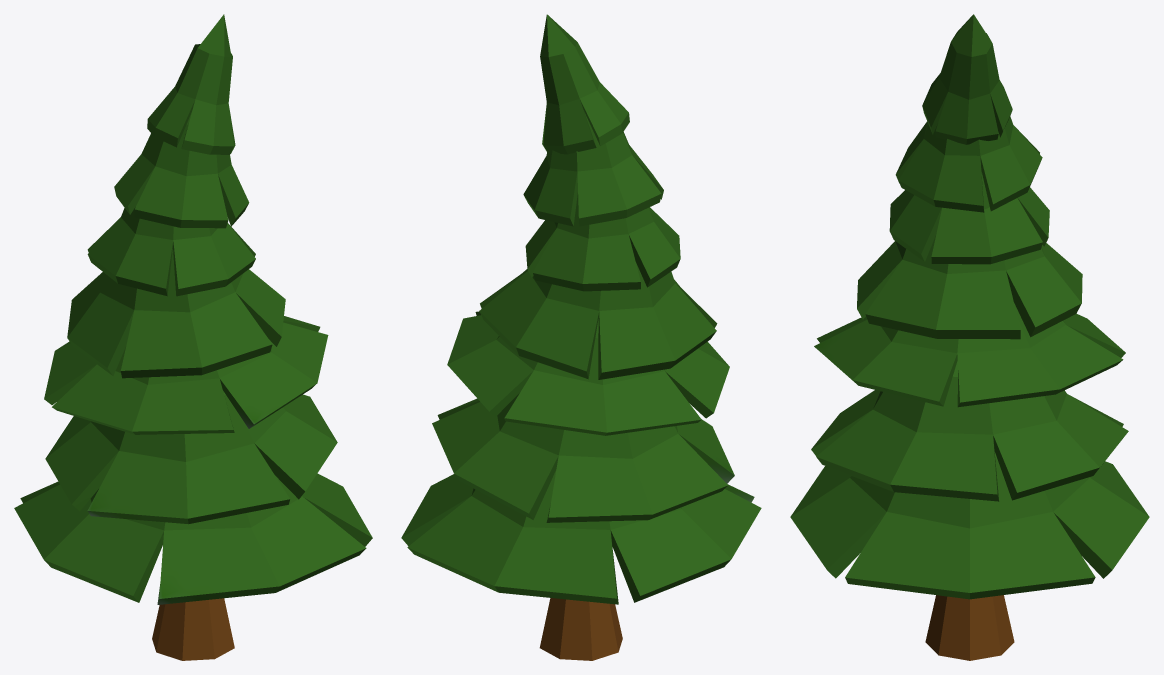
File: smreka.glb
3 views of the same model, side by side, from view 1: azimuth 30°, elevation 25°; view 2: azimuth 150°, elevation 25°; view 3: azimuth 270°, elevation 25° (orthographic). The views are drawn at different scales.
Visible parts, largest first — view 1: Pine_4; view 2: Pine_4; view 3: Pine_4.
Boxes of the visible parts, x1=… form: Pine_4: x1=14, y1=14, x2=372, y2=660; Pine_4: x1=401, y1=14, x2=761, y2=660; Pine_4: x1=790, y1=14, x2=1149, y2=660.
Bounding box in the file's own units: 2.26 × 4.47 × 2.26.
Materials: 1 (1 with a texture image).
